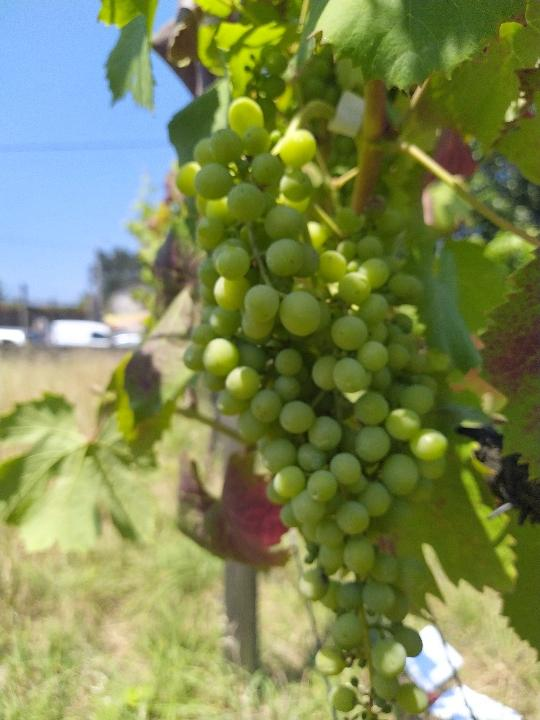grape: (171, 88, 451, 717)
